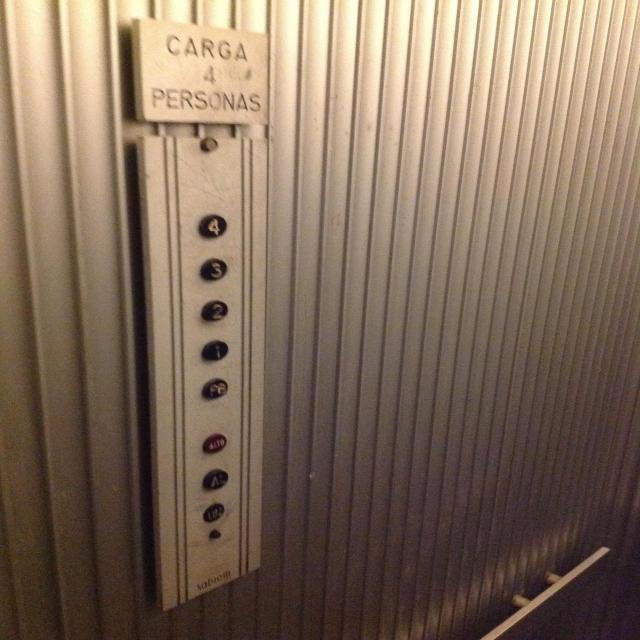1: (202, 339, 228, 362)
2: (201, 297, 228, 325)
3: (199, 257, 227, 283)
4: (198, 211, 227, 242)
PB: (201, 377, 229, 399)
text: (202, 432, 226, 455), (202, 502, 225, 523)
unknown: (201, 467, 229, 491)
